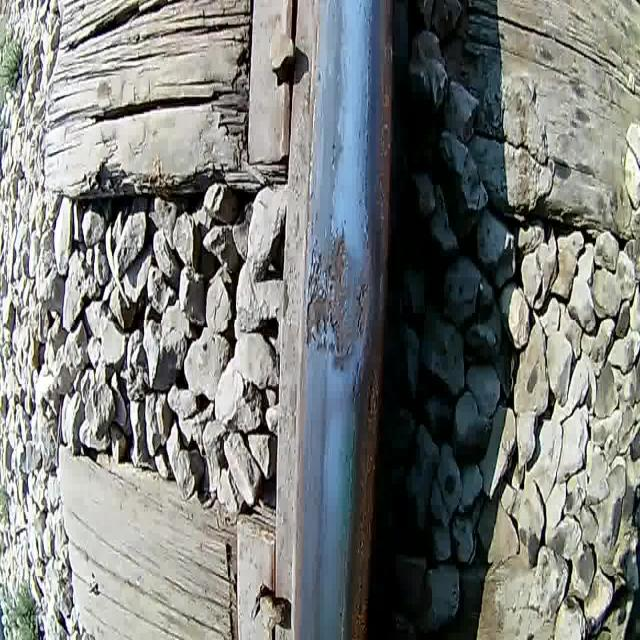Cracks: (302, 225, 324, 357), (350, 356, 361, 412)
Spallings: (326, 230, 350, 292), (312, 306, 343, 344), (354, 274, 371, 342), (365, 360, 382, 423)
Squats: (344, 300, 402, 639), (299, 212, 377, 379), (368, 0, 404, 273)
